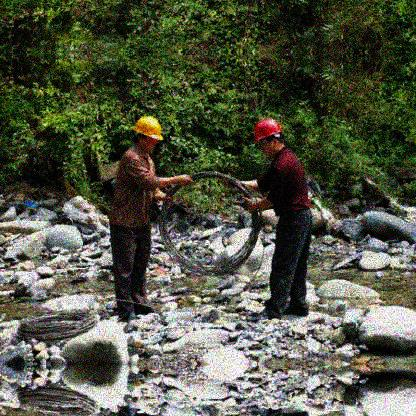helmet: (132, 113, 163, 156), (255, 119, 285, 158)
